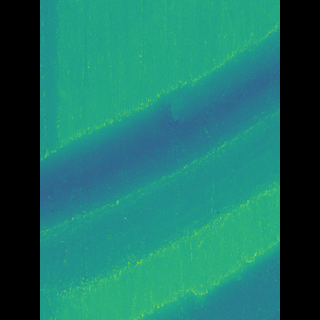Loch: (69, 23, 250, 242), (142, 244, 249, 319)
